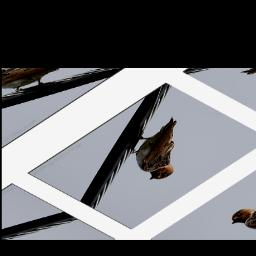Swallow: (105, 114, 223, 185)
